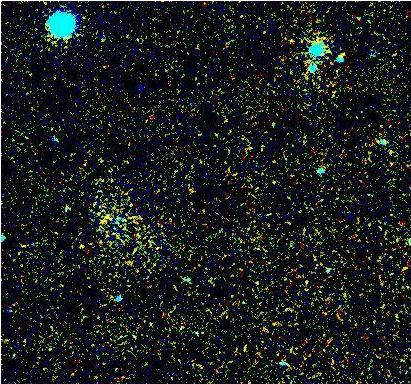star: (325, 39, 355, 69)
